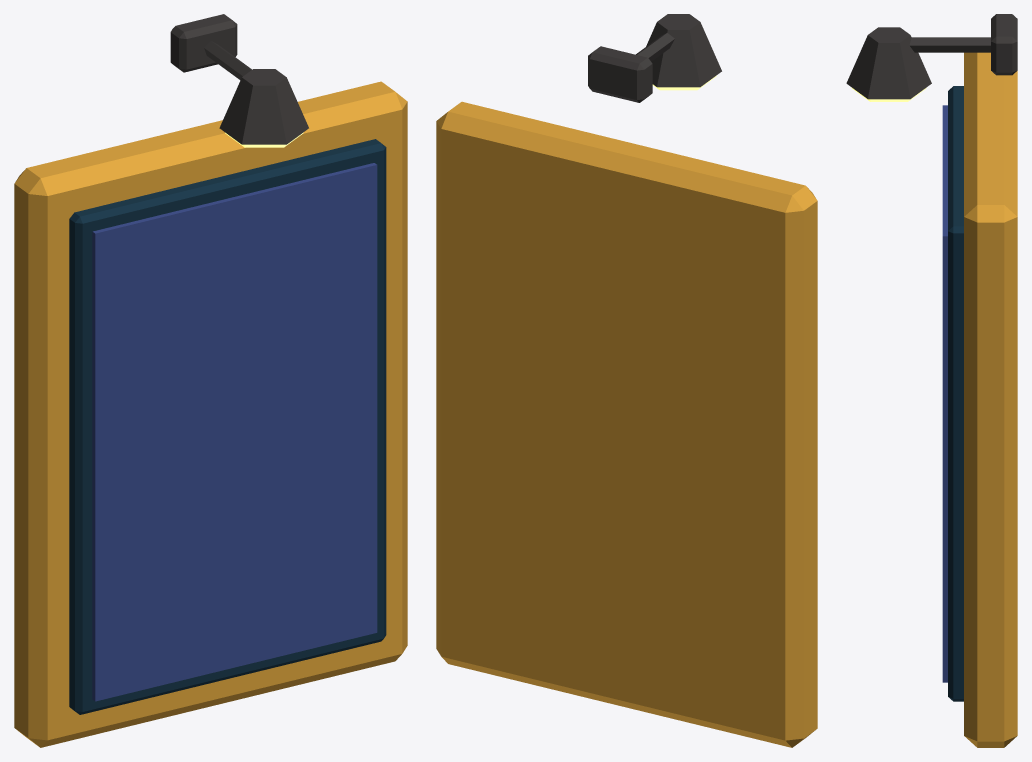
File: lobby_poster_frame.glb
The picture shows the model from 3 angles, left to right: view 1: azimuth 30°, elevation 25°; view 2: azimuth 150°, elevation 25°; view 3: azimuth 270°, elevation 25°; orthographic projection. The views are drawn at different scales.
Parts seen in each view (by area): view 1: lobby_poster_frame; view 2: lobby_poster_frame; view 3: lobby_poster_frame.
Boxes of the visible parts, x1,y1,x2,y2 form: lobby_poster_frame: [14, 14, 407, 747]; lobby_poster_frame: [436, 14, 817, 747]; lobby_poster_frame: [846, 14, 1017, 747].
Size of the model in its own units: 0.78 by 1.32 by 0.32.
